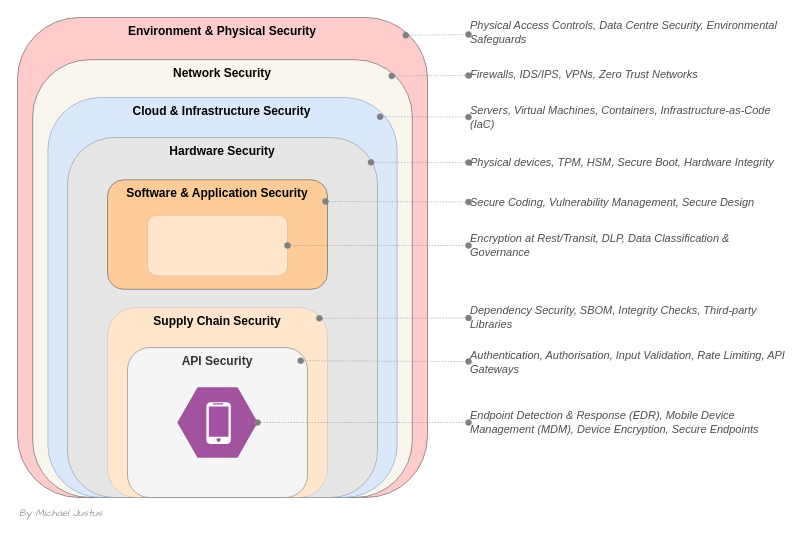
The diagram is 805 pixels wide and 545 high, and some of its shapes have lost their labels. The shapes that lost their labels are listed below. From the top down, each one's centre as x and y in pixels, then its label:
At point 217,245: "Data Security".
At point 217,422: "Device & Endpoint Security".
